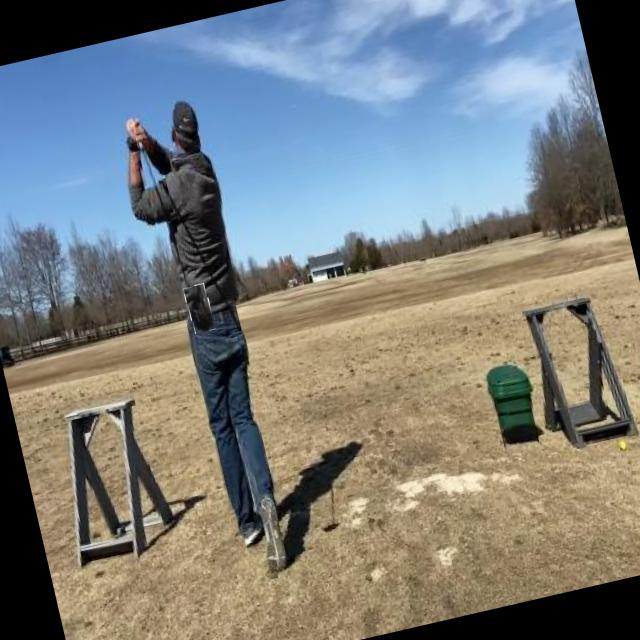club head: (182, 283, 215, 334)
